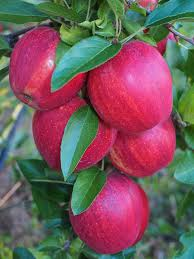apple: (87, 39, 176, 127), (71, 164, 155, 252), (29, 97, 116, 173), (14, 27, 94, 106), (108, 113, 178, 177)
